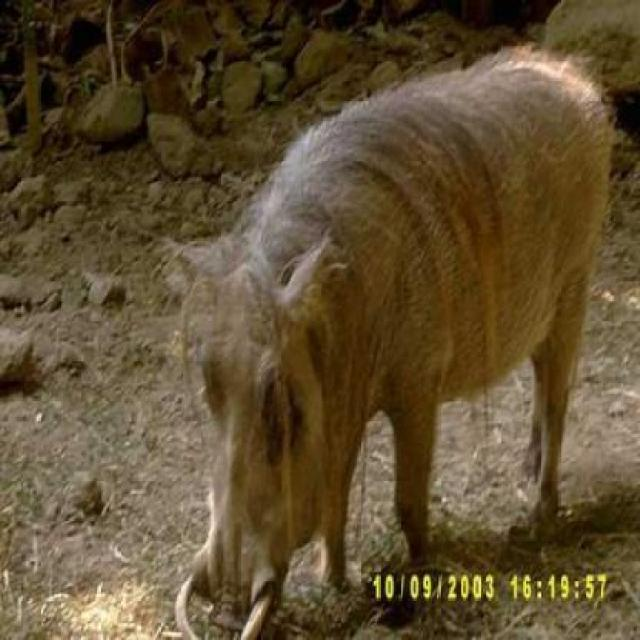pig: (143, 32, 639, 640)
